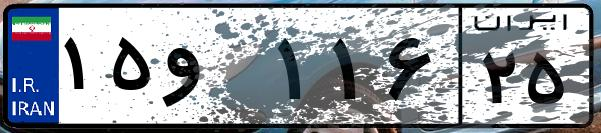1: (270, 28, 330, 110), (330, 28, 385, 110), (57, 26, 110, 100)
2: (475, 38, 525, 113)
5: (525, 38, 570, 115), (110, 28, 158, 98)
6: (385, 28, 445, 110)
و: (158, 20, 270, 120)
